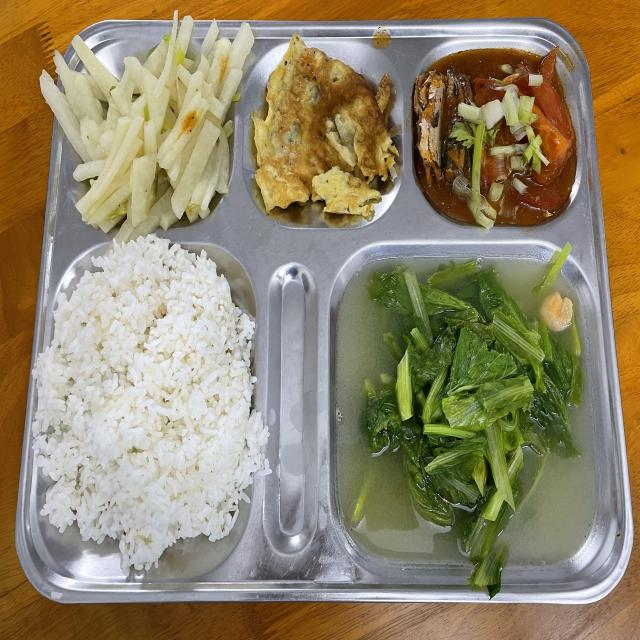ca_kho: (421, 74, 575, 212)
canh_cai: (357, 273, 592, 552)
com_trang: (57, 266, 250, 557)
trung_chien: (262, 53, 385, 205)
